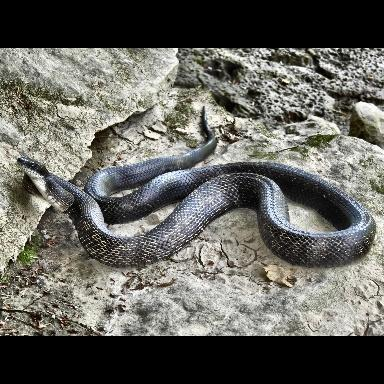snake: (18, 137, 383, 269)
